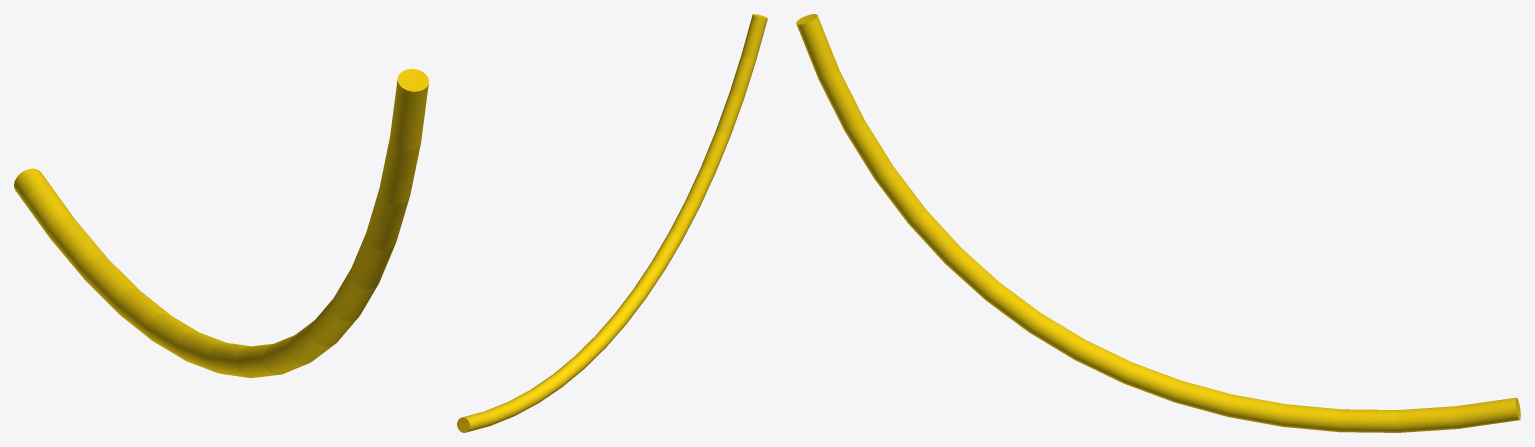
The model's file is Event_421115418_track_47.fbx.
3 renders of one model, left to right at view 1: azimuth 30°, elevation 25°; view 2: azimuth 150°, elevation 25°; view 3: azimuth 270°, elevation 25°, orthographic. The views are drawn at different scales.
Parts seen in each view (by area): view 1: Model; view 2: Model; view 3: Model.
Part boxes in pixels (bbox=[...]): Model: bbox=[14, 69, 428, 377]; Model: bbox=[457, 14, 767, 432]; Model: bbox=[796, 14, 1520, 432].
Bounding box in the file's own units: 0.192 × 0.7408 × 1.26.
